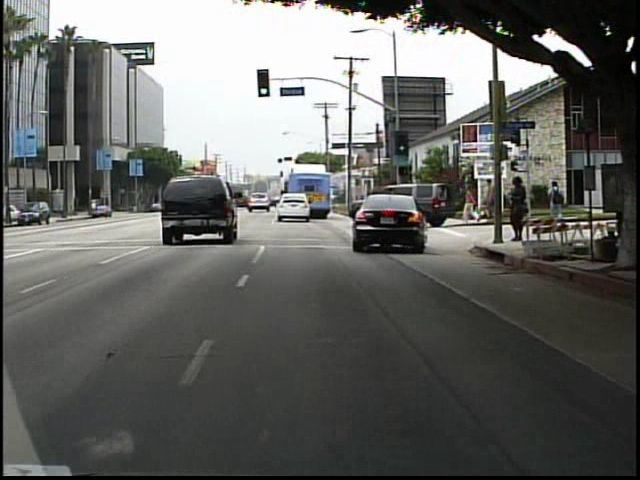person: (505, 172, 529, 249), (461, 180, 483, 228), (547, 179, 568, 221), (482, 178, 497, 223)
